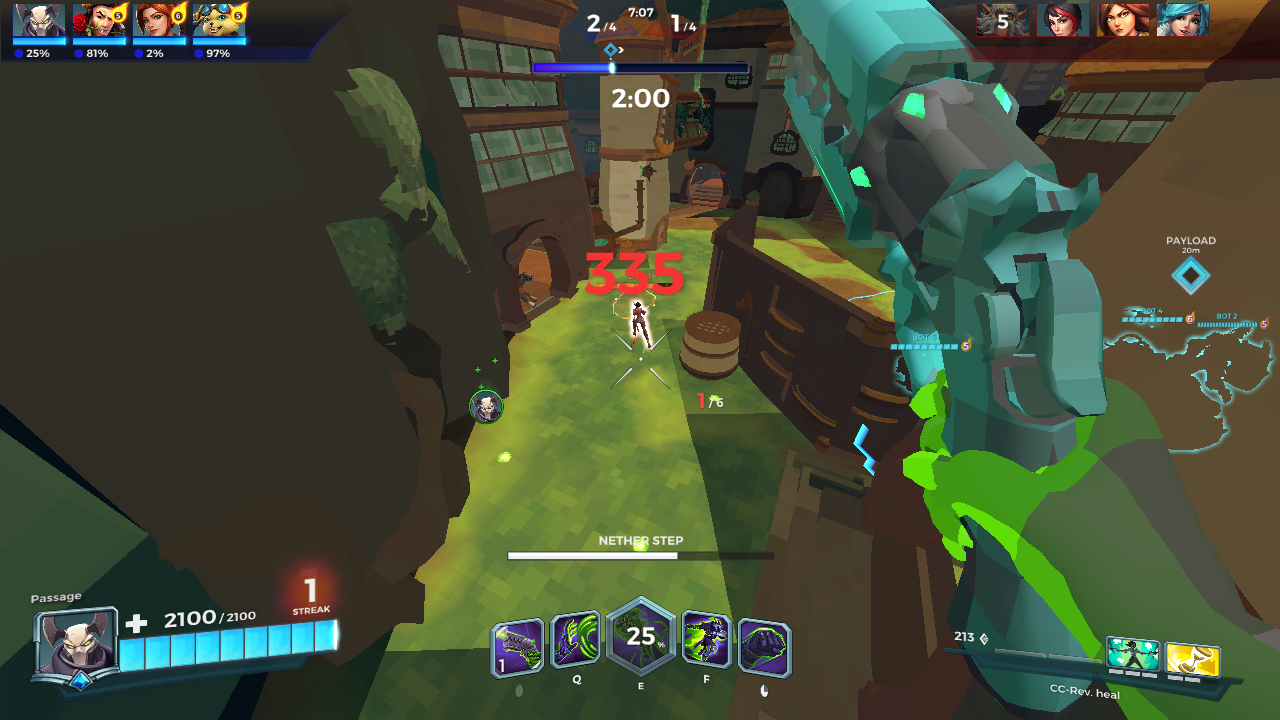model: (626, 301, 654, 346)
